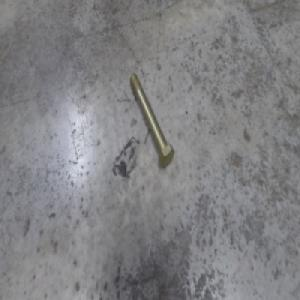Bolt: (132, 72, 177, 166)
